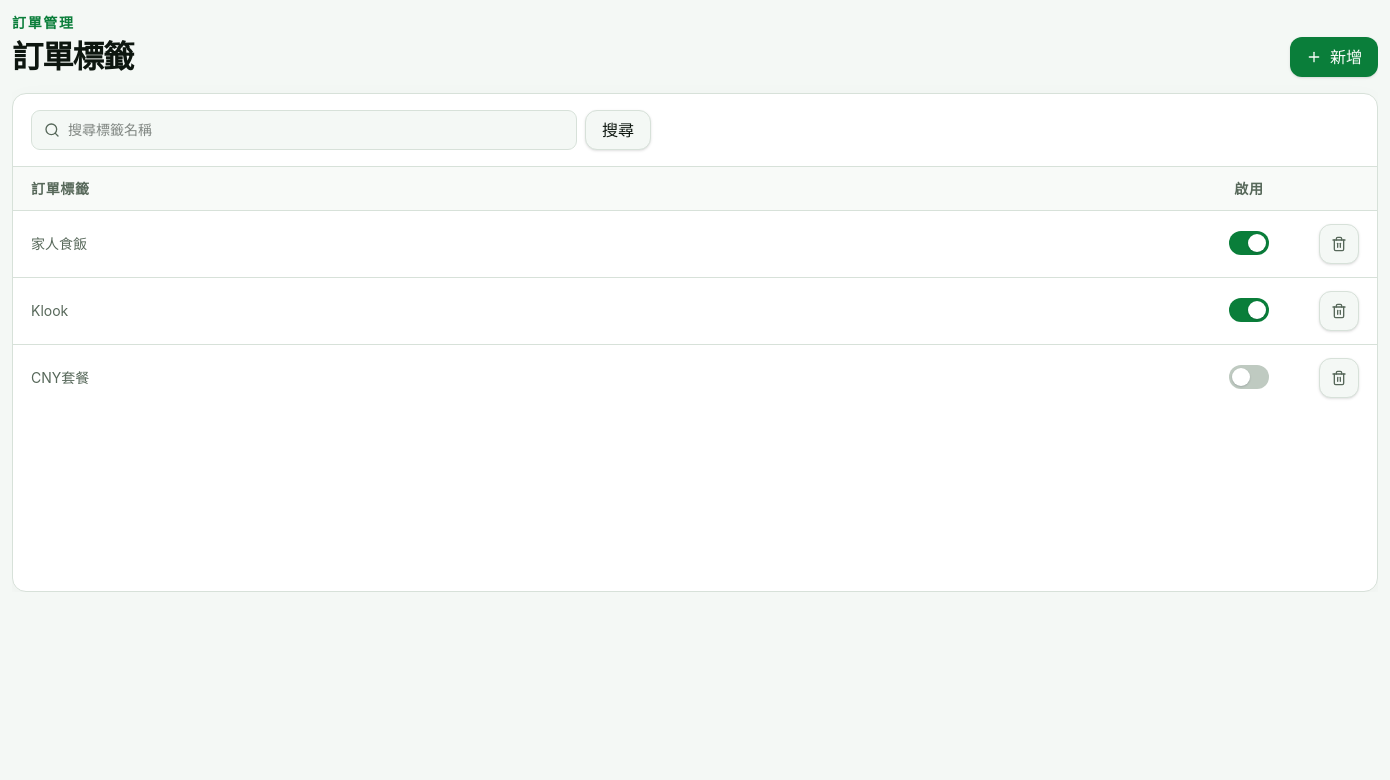
Test: Order settings tags page › toggles Active and archives a tag
Click the switch named "切換 家人食飯 的啟用狀態".
click(1249, 243)  # box [1229,231,1269,255]
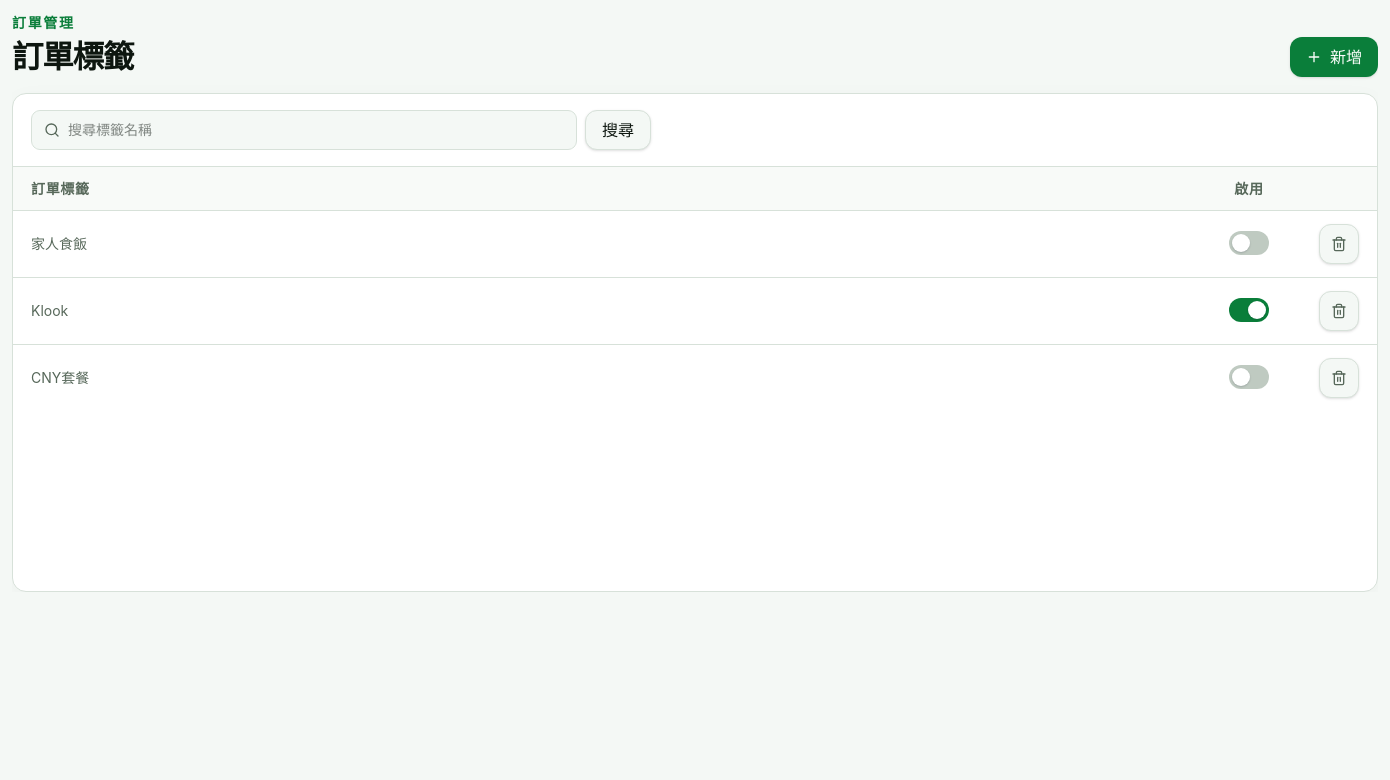
Click the button named "刪除 家人食飯".
click(1339, 244)  # box [1319,224,1359,264]
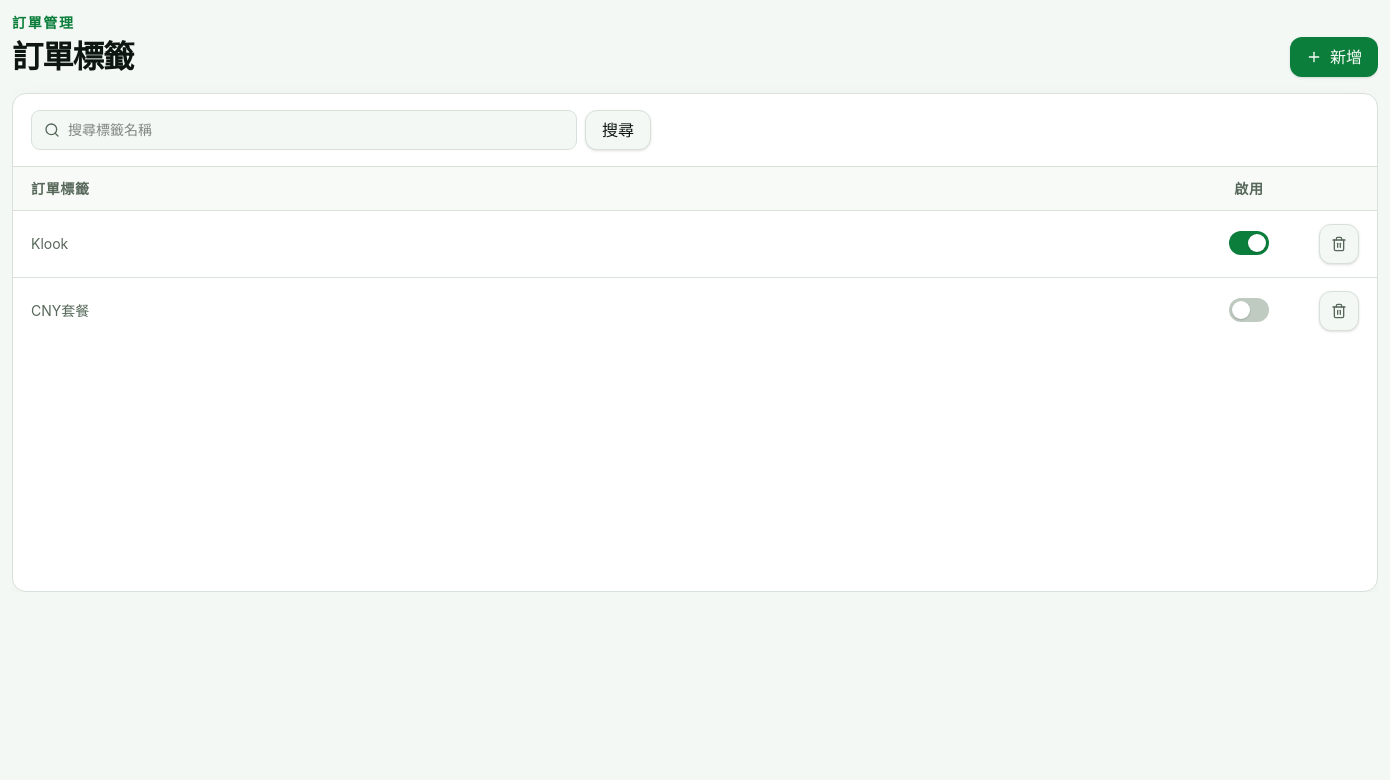
Expected: the text "家人食飯" is gone
